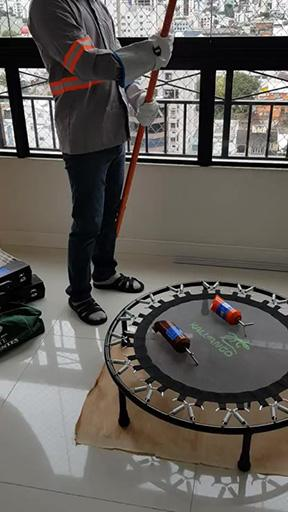Detector_Tensao_Contato: (154, 320, 197, 363), (211, 296, 254, 335)
Vara_Manobra: (112, 1, 176, 232)
